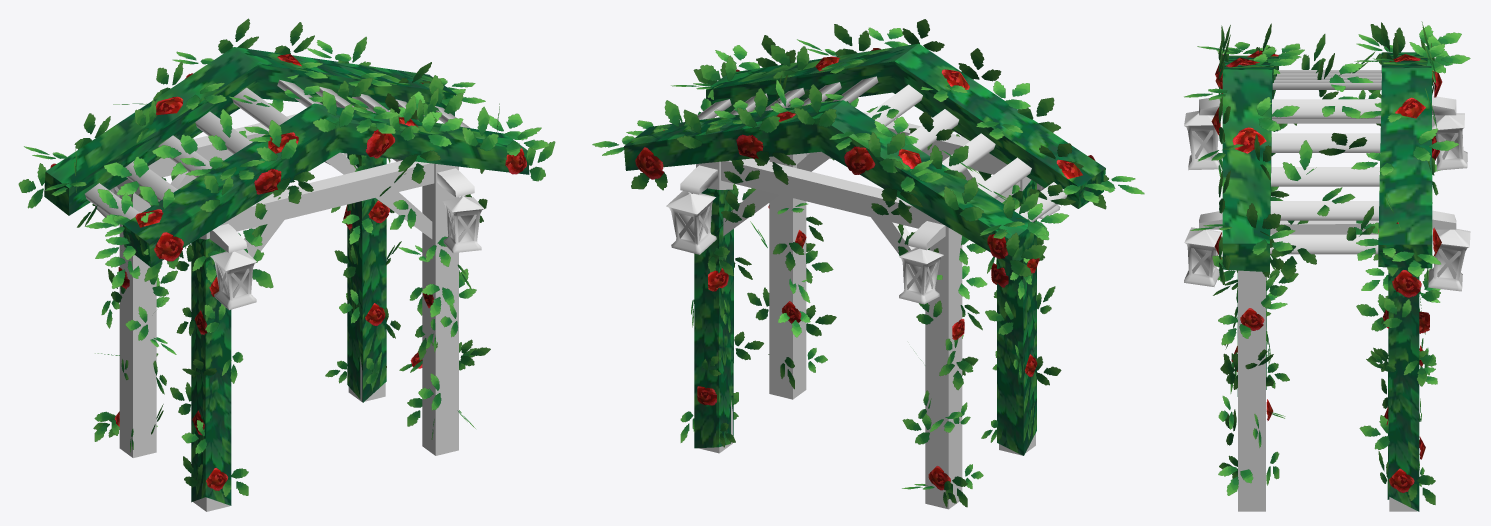
The model's file is Arch.fbx.
3 renders of one model, left to right at view 1: azimuth 30°, elevation 25°; view 2: azimuth 150°, elevation 25°; view 3: azimuth 270°, elevation 25°, orthographic. The views are drawn at different scales.
Visible parts, largest first — view 1: Arch; view 2: Arch; view 3: Arch.
Boxes of the visible parts, x1,y1,x2,y2 form: Arch: (18, 18, 555, 511); Arch: (592, 19, 1144, 509); Arch: (1184, 21, 1470, 511).
Size of the model in its own units: 16.41 by 13.23 by 8.69.
Materials: 3 (1 with a texture image).
